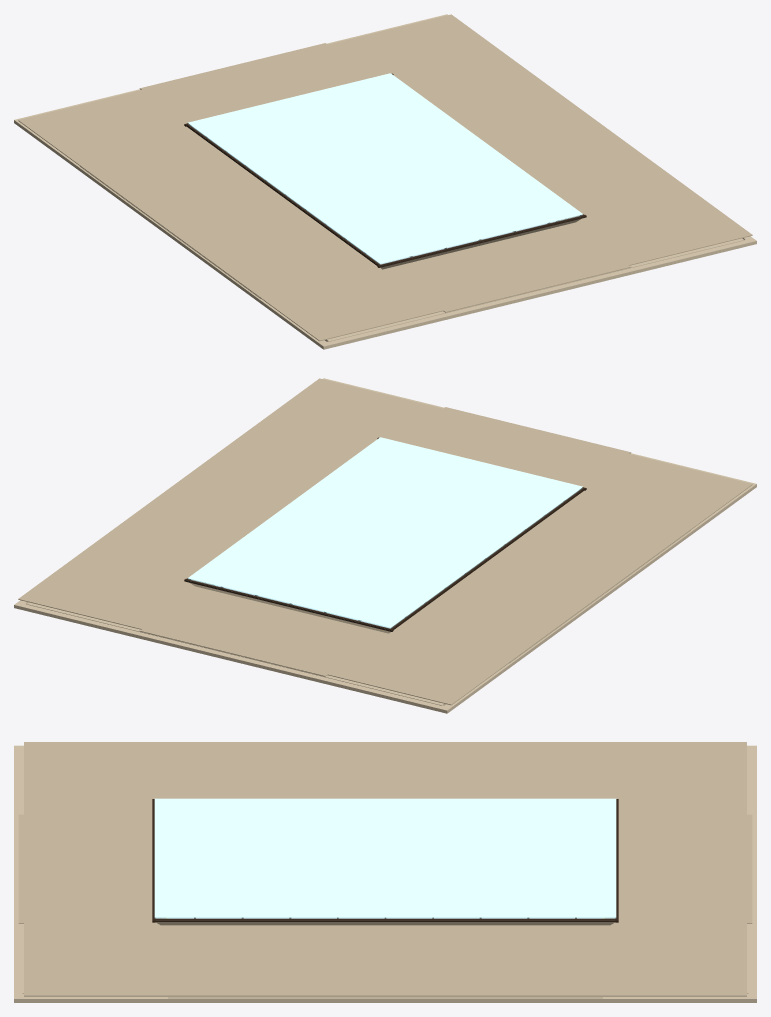
Rendered from grand-hall-ceiling-63x78-v1.glb.
3 views of the same model, one above another, from view 1: azimuth 30°, elevation 25°; view 2: azimuth 150°, elevation 25°; view 3: azimuth 270°, elevation 25° (orthographic). The views are drawn at different scales.
Parts seen in each view (by area): view 1: GH_plaster, GH_sky, GH_trim, GH_bronze, GH_glass; view 2: GH_plaster, GH_sky, GH_trim, GH_bronze, GH_glass; view 3: GH_plaster, GH_sky, GH_trim, GH_bronze, GH_glass.
Part boxes in pixels (box(x1,y1,x2,y2)): GH_plaster: box(18, 14, 752, 341); GH_sky: box(188, 73, 582, 263); GH_trim: box(14, 14, 756, 349); GH_bronze: box(184, 73, 586, 267); GH_glass: box(188, 124, 582, 264); GH_plaster: box(18, 378, 752, 705); GH_sky: box(188, 437, 582, 627); GH_trim: box(14, 378, 756, 713); GH_bronze: box(184, 437, 586, 631); GH_glass: box(188, 488, 582, 628); GH_plaster: box(18, 742, 752, 996); GH_sky: box(154, 798, 616, 917); GH_trim: box(14, 745, 756, 1002); GH_bronze: box(152, 799, 618, 922); GH_glass: box(155, 917, 615, 918).
Size of the model in its own units: 63 by 2.19 by 78.
